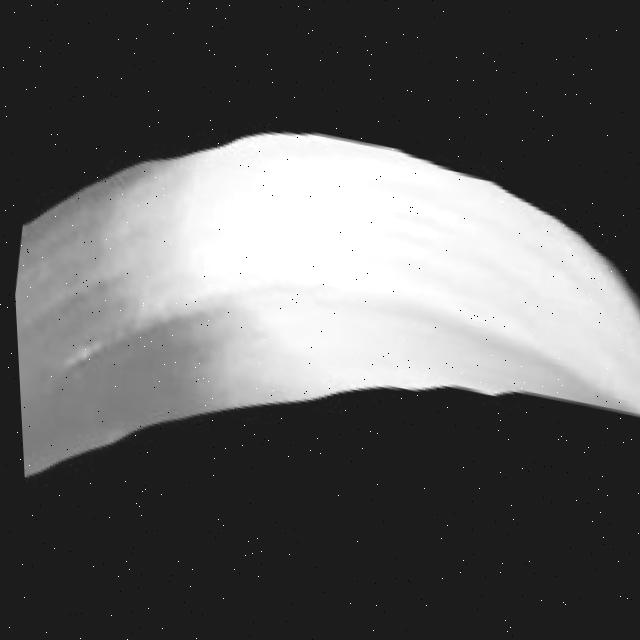mite: (613, 416, 640, 640), (620, 211, 640, 374)
sunburn: (12, 281, 640, 640)
